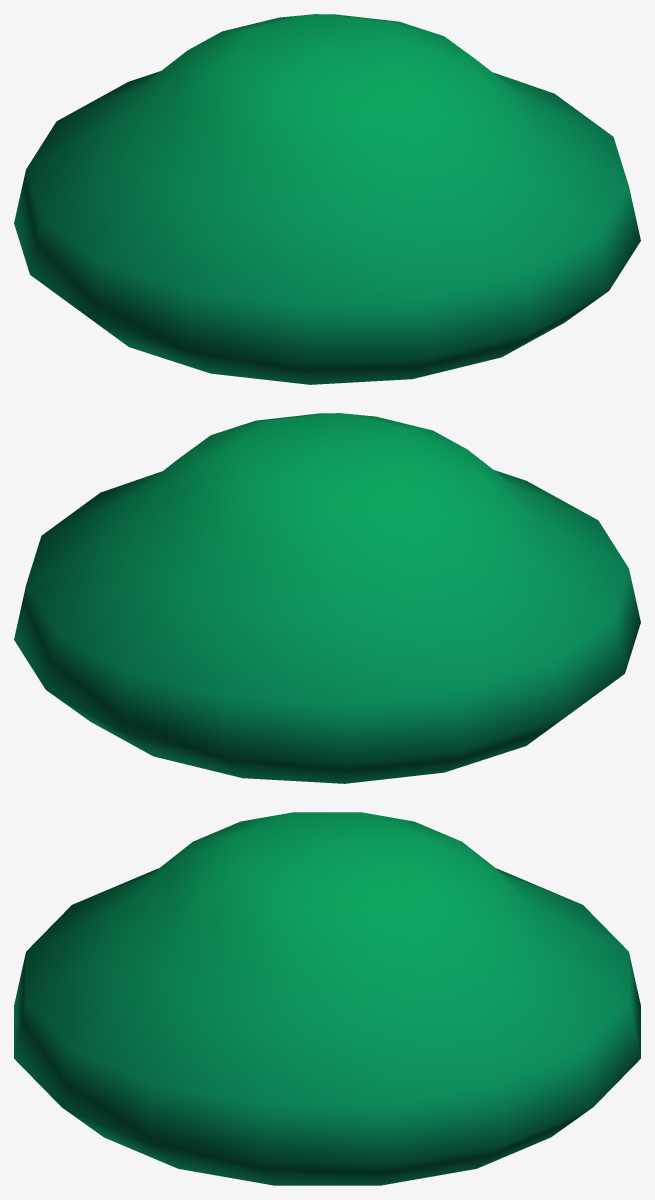
The model's file is bramble.gltf.
3 renders of one model, top to bottom at view 1: azimuth 30°, elevation 25°; view 2: azimuth 150°, elevation 25°; view 3: azimuth 270°, elevation 25°, orthographic.
Visible parts, largest first — view 1: Bush_3_A_Color2; view 2: Bush_3_A_Color2; view 3: Bush_3_A_Color2.
Part boxes in pixels (x1=…): Bush_3_A_Color2: x1=14, y1=14, x2=640, y2=384; Bush_3_A_Color2: x1=14, y1=413, x2=640, y2=783; Bush_3_A_Color2: x1=14, y1=812, x2=640, y2=1185.
Bounding box in the file's own units: 1.03 × 0.4853 × 1.03.
1 material, 1 textured.
